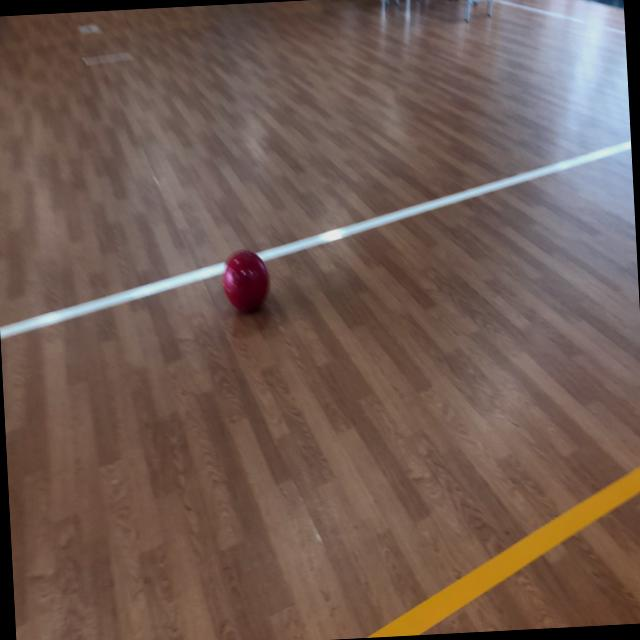red_ball: (222, 251, 271, 315)
